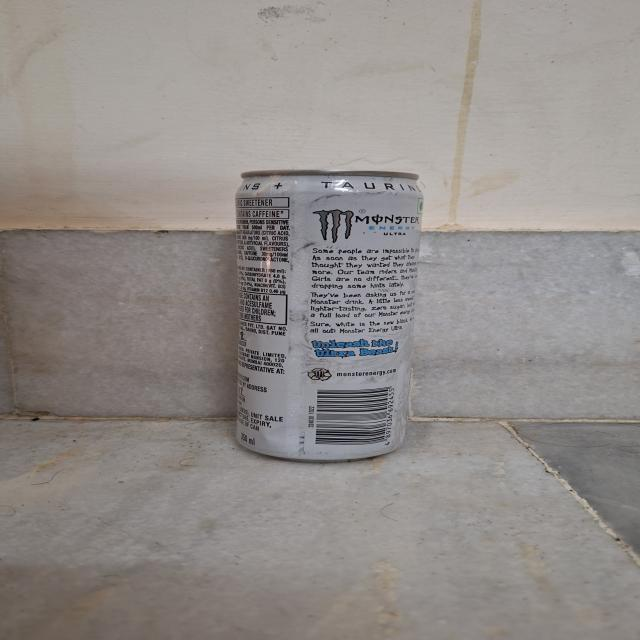White Monster: (209, 158, 443, 476)
